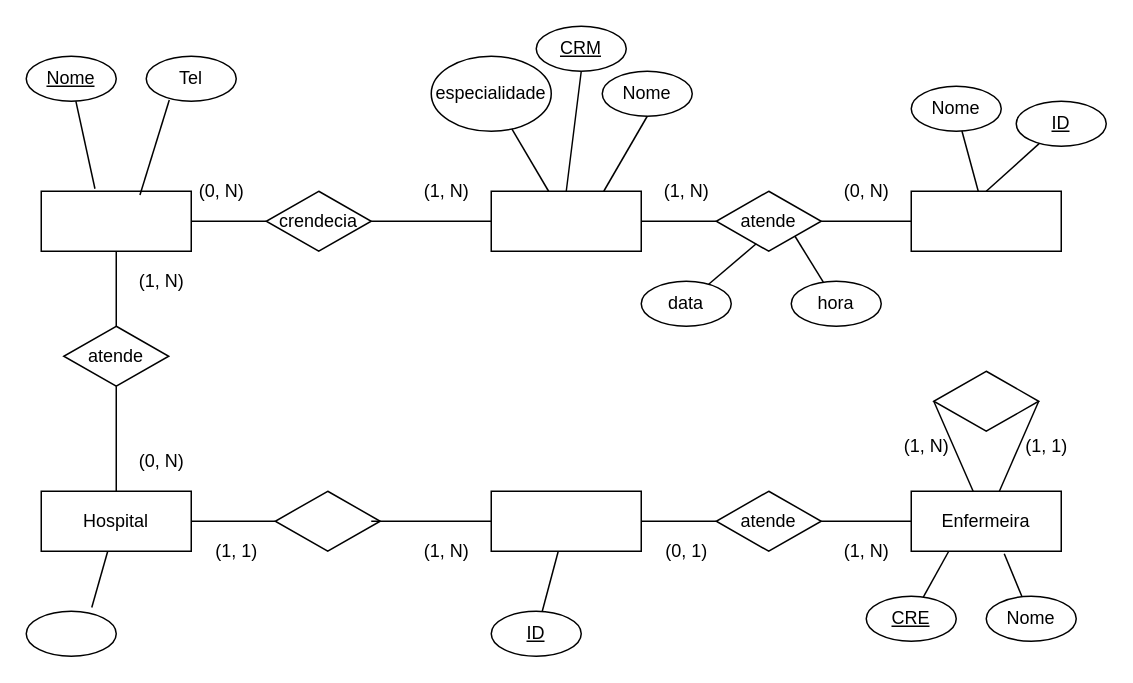
This 1133x683 diagram has some shape labels left out. Here are the shapes that lost their labels. From the top down, the centre of each, then its label:
At [115,220]: "Plano de saúde".
At [565,220]: "Médico".
At [985,220]: "Paciente".
At [985,400]: "chefia".
At [327,520]: "possui".
At [565,520]: "Ala".
At [70,633]: "CNPJ".
